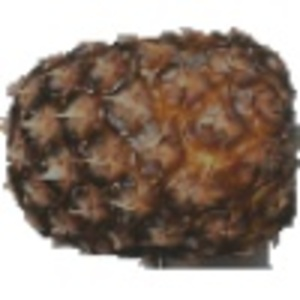abacaxi: (4, 25, 291, 258)
